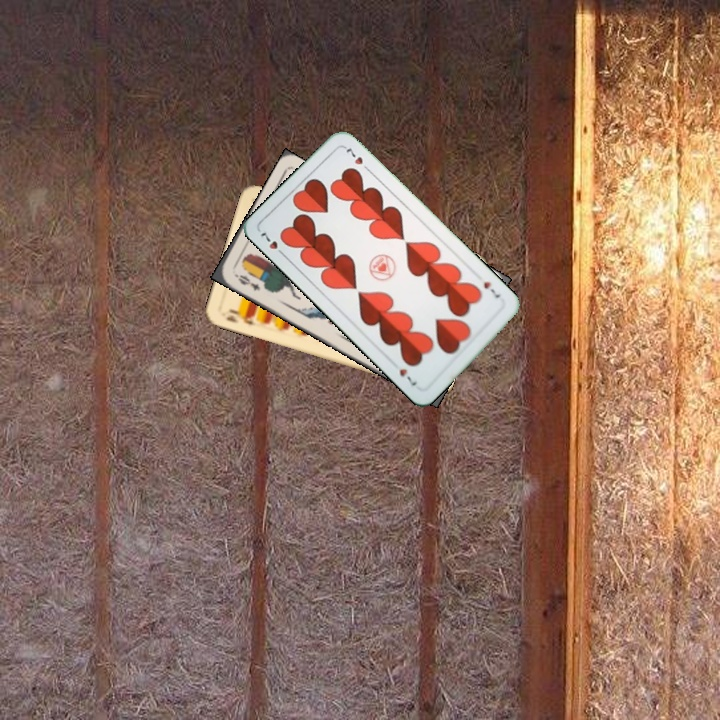E10: (222, 306, 258, 328)
EO: (230, 270, 263, 294)
H7: (256, 228, 288, 260), (479, 278, 503, 301)
